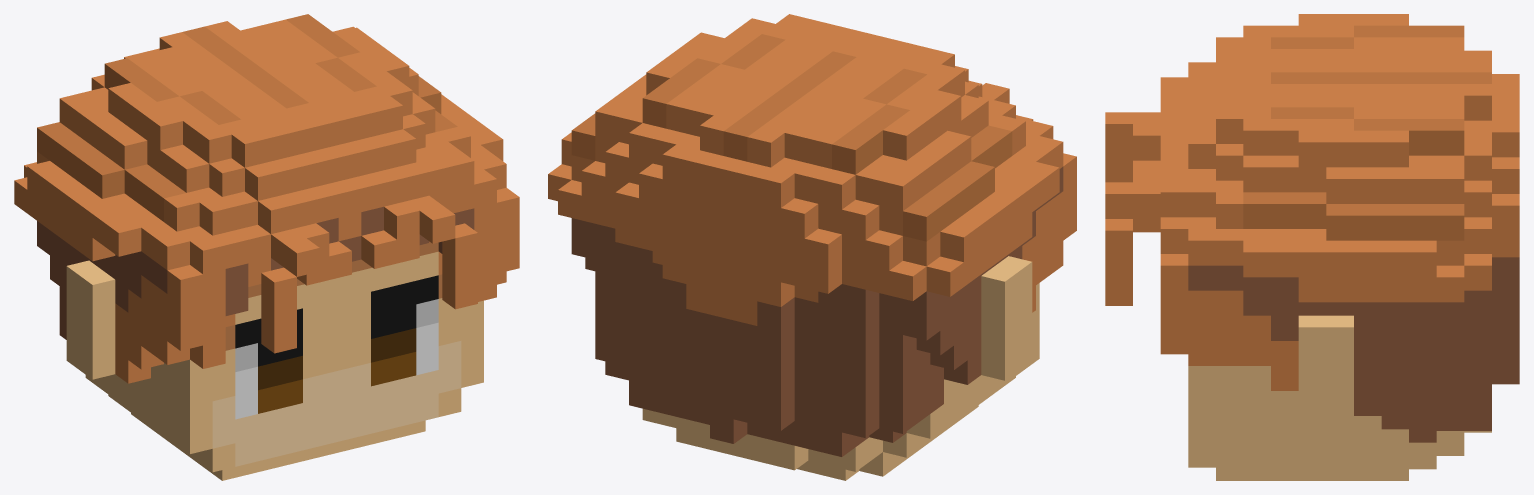
File: MKnightHead.fbx
3 renders of one model, left to right at view 1: azimuth 30°, elevation 25°; view 2: azimuth 150°, elevation 25°; view 3: azimuth 270°, elevation 25°, orthographic. The views are drawn at different scales.
Visible parts, largest first — view 1: Squire_1; view 2: Squire_1; view 3: Squire_1.
Part boxes in pixels (x1,y1,x2,y2): Squire_1: (14, 14, 519, 480); Squire_1: (548, 14, 1076, 480); Squire_1: (1105, 14, 1519, 480).
Bounding box in the file's own units: 17 × 14 × 15.
Materials: 1 (1 with a texture image).
